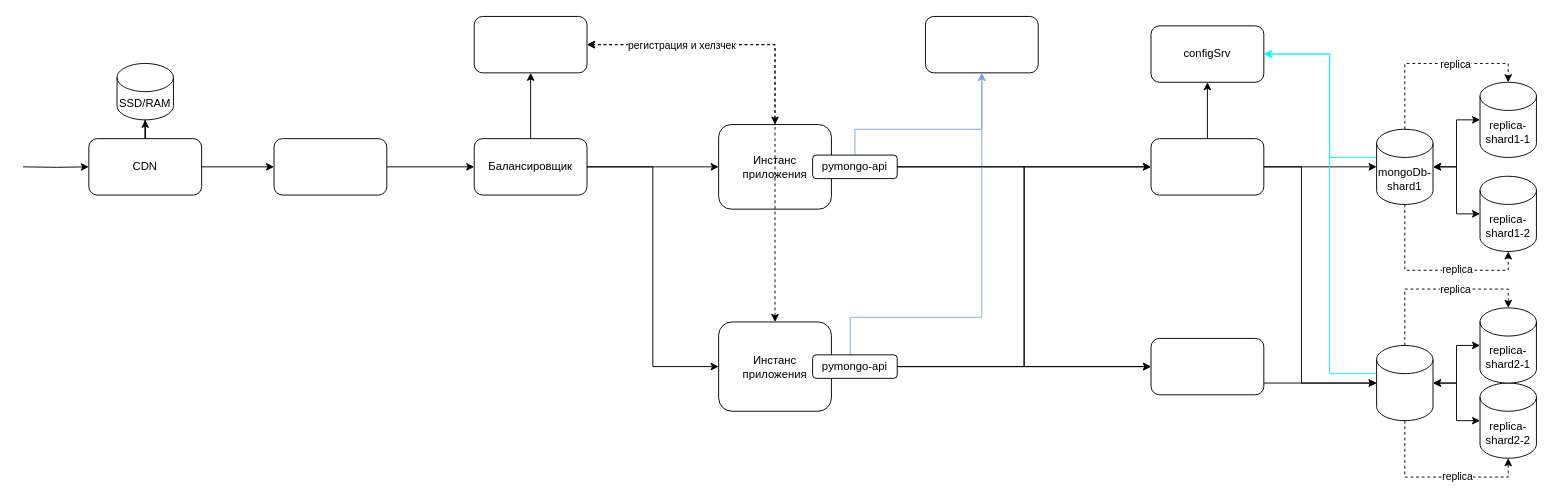
This 1553x501 diagram has some shape labels left out. The shapes that lost their labels are listed below. From the top down, each one's box as (x1, y1, x2, y2) in pixels, then its label:
(473, 16, 587, 73): service-discovery
(924, 16, 1038, 73): redis
(273, 138, 387, 195): API-Gateway
(1150, 138, 1264, 195): mongo-router-1
(1150, 337, 1264, 395): mongo-router-2
(1376, 345, 1433, 421): mongoDb-shard2
